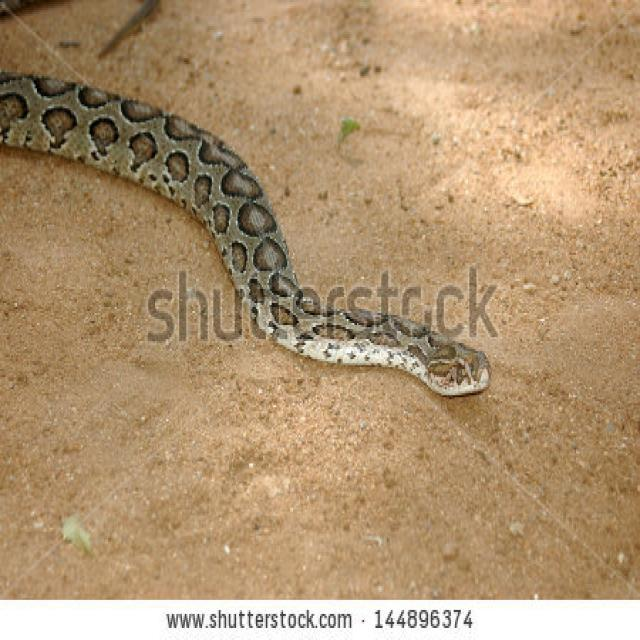Snake: (0, 63, 499, 404)
